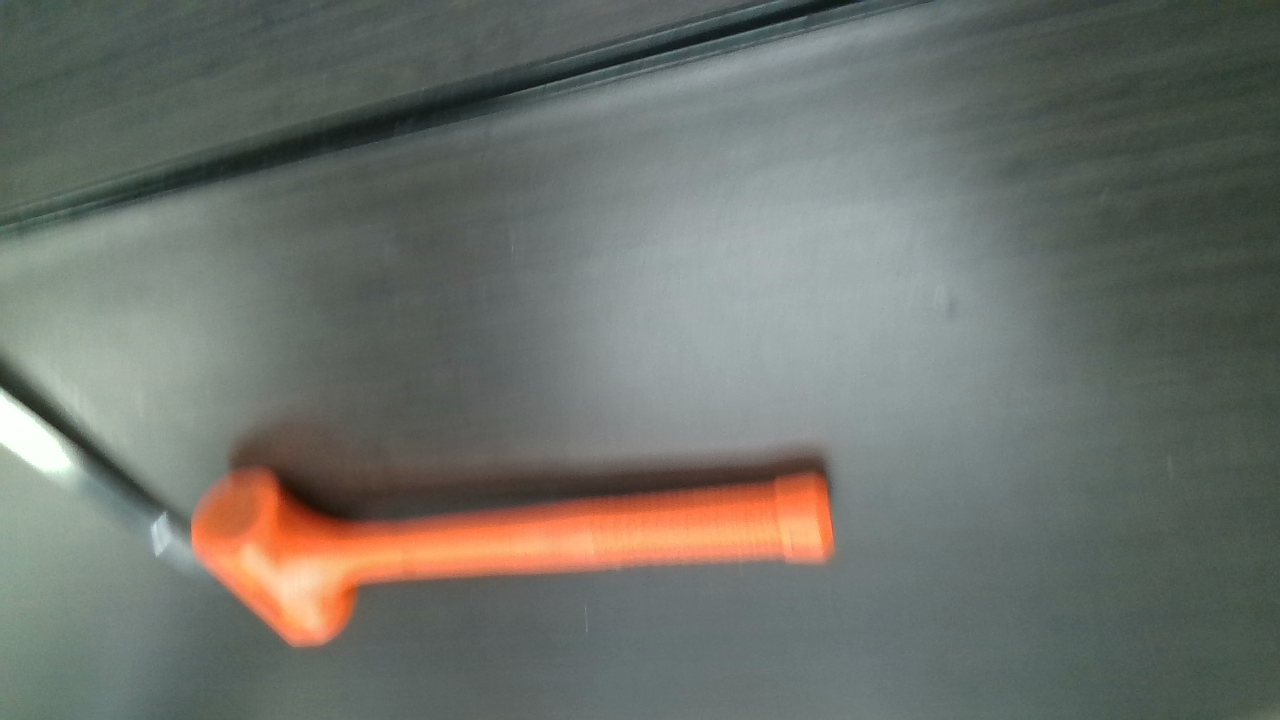Orange Hammer: (195, 460, 839, 646)
